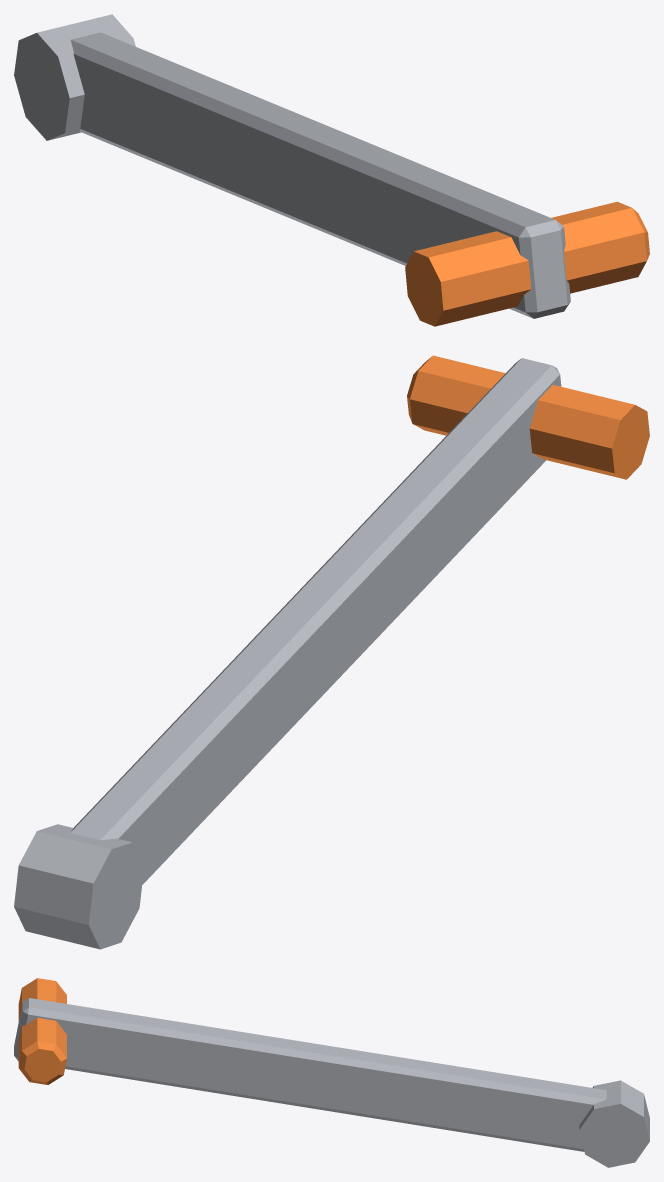
The model's file is prime_lever_arm.glb.
The picture shows the model from 3 angles, top to bottom: view 1: azimuth 30°, elevation 25°; view 2: azimuth 150°, elevation 25°; view 3: azimuth 270°, elevation 25°; orthographic projection. The views are drawn at different scales.
Visible parts, largest first — view 1: PrimeLeverArm; view 2: PrimeLeverArm; view 3: PrimeLeverArm.
Boxes of the visible parts, <box> form: PrimeLeverArm: <box>14,14,649,326</box>; PrimeLeverArm: <box>14,355,649,949</box>; PrimeLeverArm: <box>14,978,649,1167</box>.
Size of the model in its own units: 0.056 by 0.0613 by 0.23.
